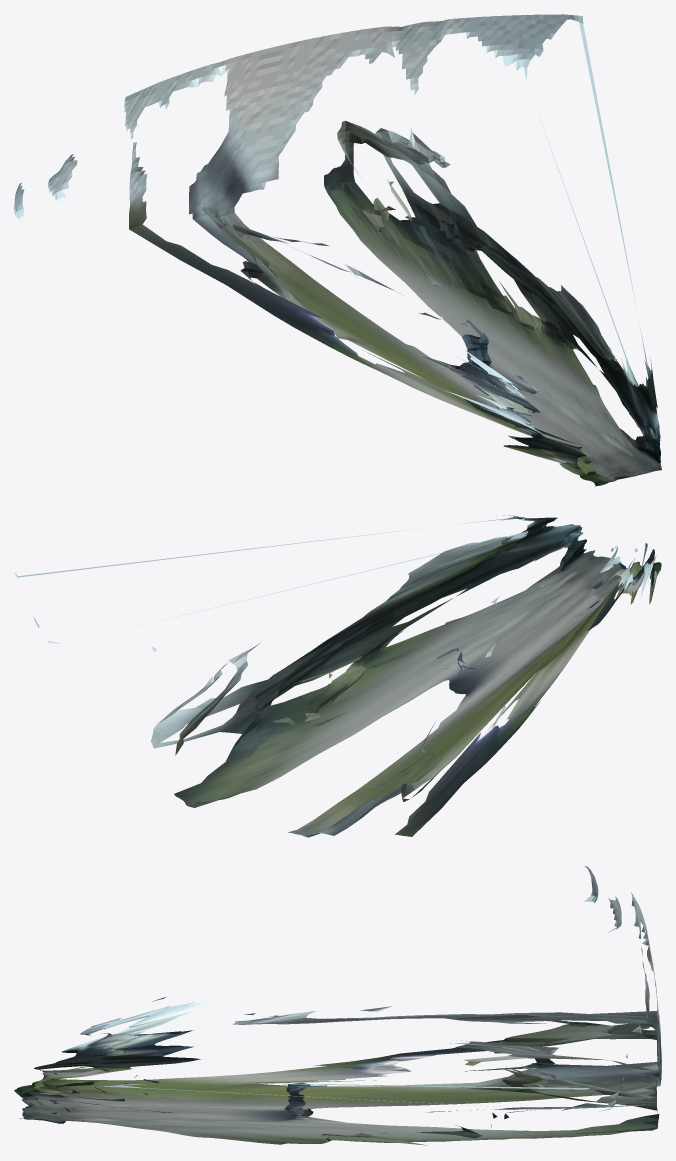
The picture shows the model from 3 angles, top to bottom: view 1: azimuth 30°, elevation 25°; view 2: azimuth 150°, elevation 25°; view 3: azimuth 270°, elevation 25°; orthographic projection. The views are drawn at different scales.
Parts seen in each view (by area): view 1: defaultobject; view 2: defaultobject; view 3: defaultobject.
Part boxes in pixels (x1,y1,x2,y2): defaultobject: [14, 14, 661, 486]; defaultobject: [14, 515, 661, 837]; defaultobject: [14, 866, 661, 1145].
Size of the model in its own units: 40 by 12.2 by 44.86.
Materials: 1 (1 with a texture image).
